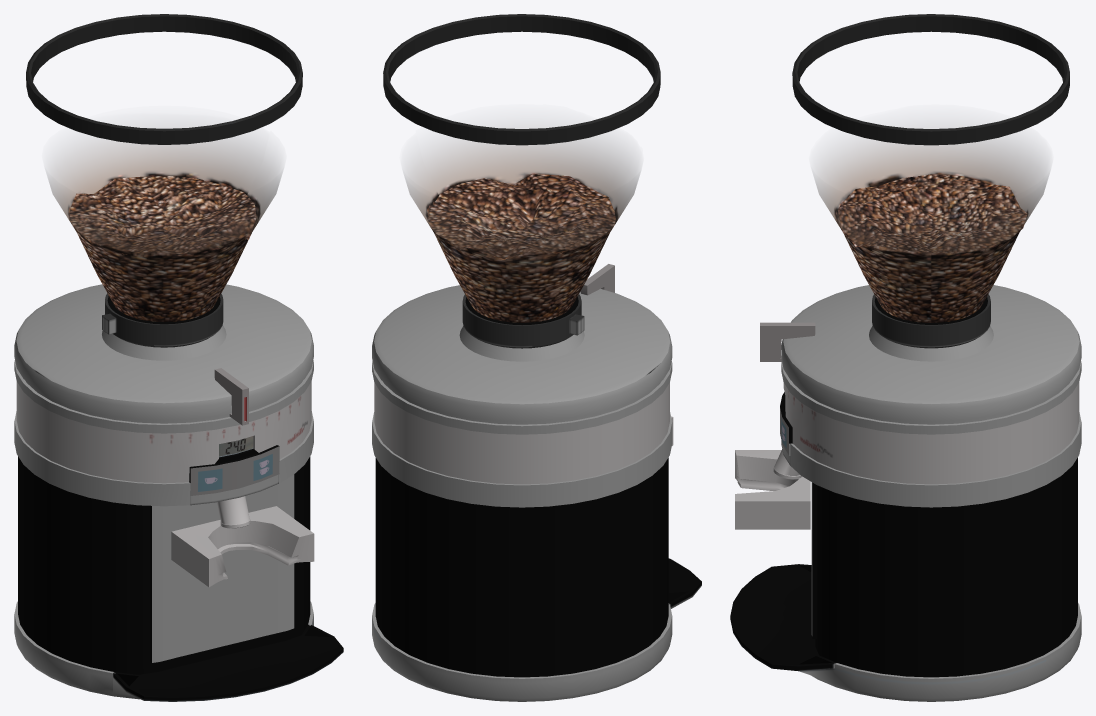
Rendered from cafe.glb.
3 renders of one model, left to right at view 1: azimuth 30°, elevation 25°; view 2: azimuth 150°, elevation 25°; view 3: azimuth 270°, elevation 25°, orthographic.
Visible parts, largest first — view 1: beans_1; view 2: beans_1; view 3: beans_1.
Part boxes in pixels (x1,y1,x2,y2): beans_1: (14, 14, 343, 701); beans_1: (372, 14, 701, 701); beans_1: (730, 14, 1081, 701).
Bounding box in the file's own units: 1.81 × 3.78 × 2.11.
1 material, 1 textured.
